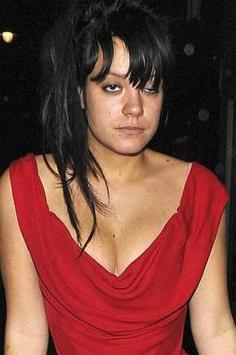Drunk: (89, 39, 160, 152)
